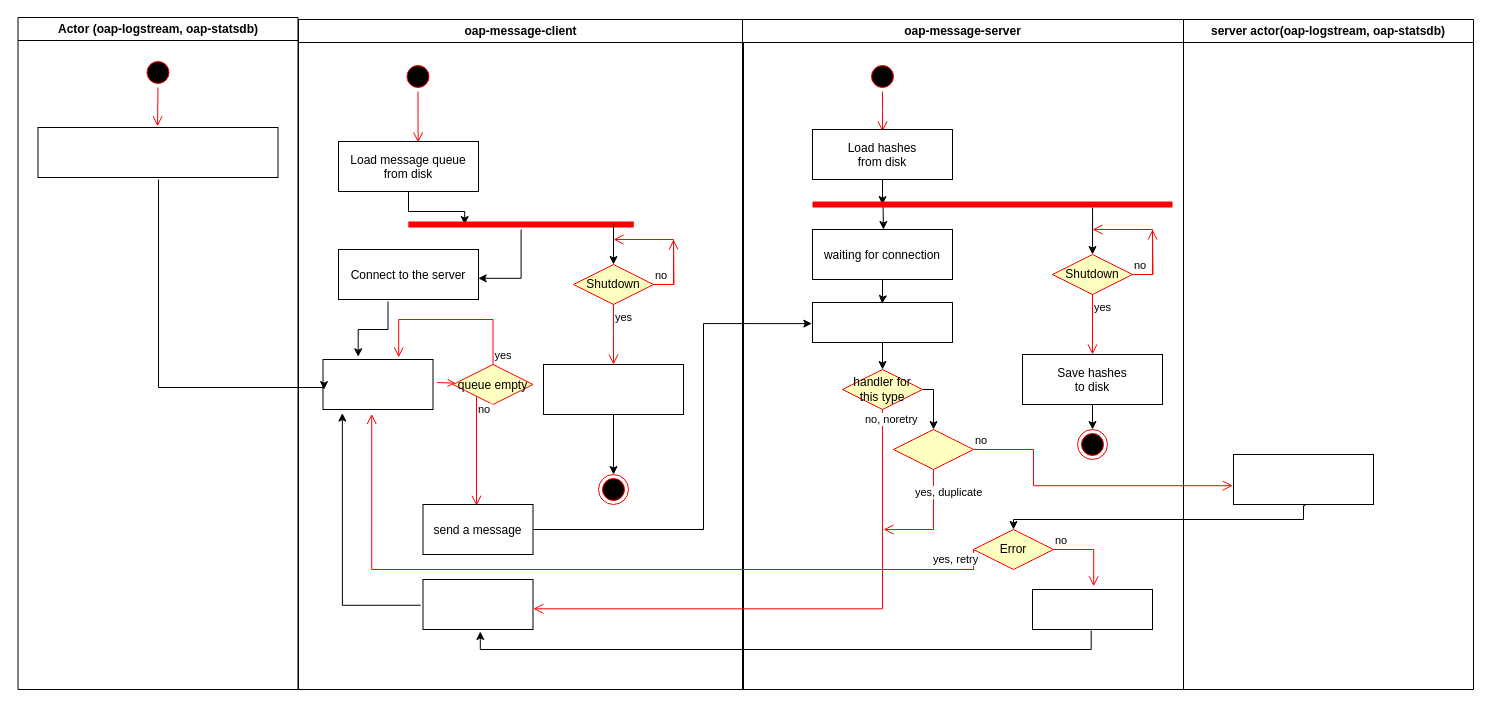
This 1491x707 diagram has some shape labels left out. Each missing label, with the centre of its shape:
add a message of type N to the queue: (x=157, y=152)
check queue on new messages: (x=377, y=384)
Hash exists: (x=933, y=449)
message processing: (x=1303, y=479)
Process message: (x=882, y=322)
Register hash: (x=1092, y=609)
remove message from queue: (x=477, y=604)
Save message queue to disk: (x=613, y=389)
